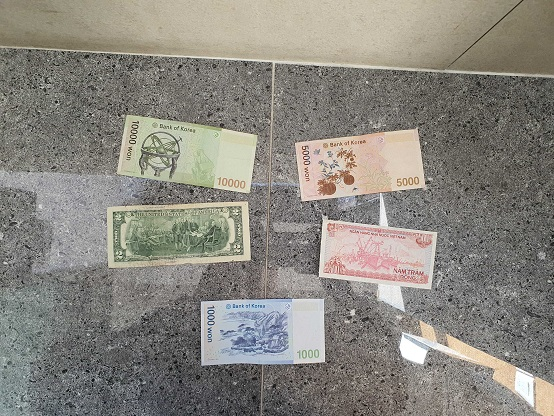10000won: (114, 112, 257, 194)
1000won: (200, 296, 324, 366)
2dollar: (107, 200, 253, 269)
5000won: (295, 126, 428, 201)
500vnd: (316, 217, 438, 290)
